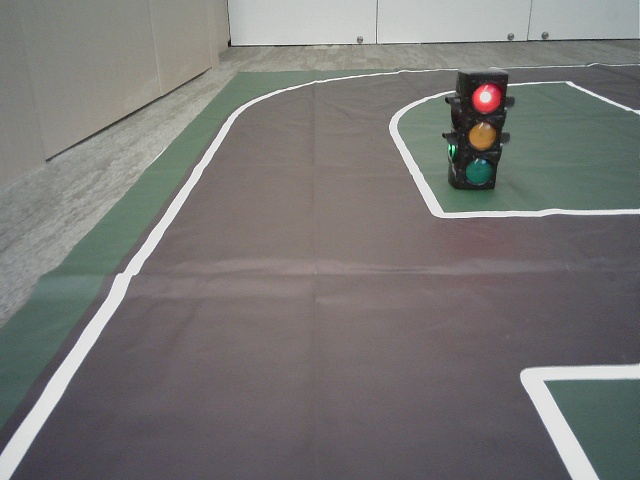red: (462, 78, 501, 185)
